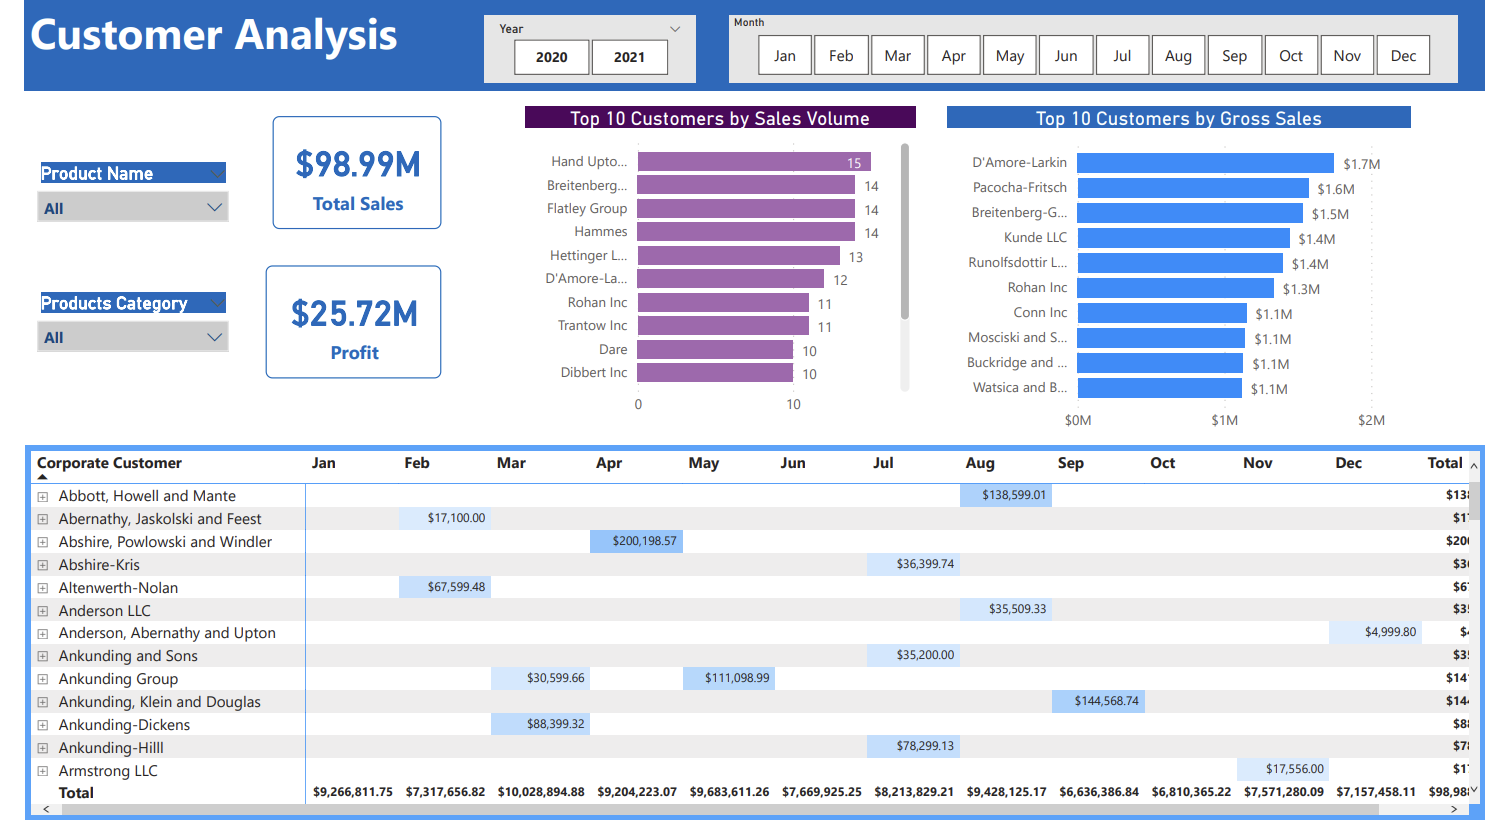

The page's visual inventory and layout, read from the dashboard file:
{"tool":"powerbi","page":{"name":"Customer Analysis","canvas":[1280,720],"ordinal":1},"visuals":[{"type":"textbox","box":[0,0,1279.9,81.9],"z":0},{"type":"clusteredBarChart","title":"Top 10 Customers by Gross Sales","fields":{"Y":["_Calculation.Total Sales"],"Category":["Sales.Corporate Customer"]},"box":[809.2,95.3,405.8,293.4],"z":1000},{"type":"slicer","title":"Product Category","fields":{"Values":["Sales.Products.Category"]},"box":[627.1,657.7,629.5,62.3],"z":2000},{"type":"card","fields":{"Values":["_Calculation.Total Sales"]},"box":[217.6,103.9,147.9,99],"z":3000},{"type":"card","fields":{"Values":["_Calculation.Profit"]},"box":[211.5,234.7,154,99],"z":4000},{"type":"slicer","title":"Month","fields":{"Values":["Sales.ShortMonth"]},"box":[617.3,15.9,639.3,58.7],"z":5000},{"type":"pivotTable","fields":{"Rows":["Sales.Corporate Customer","Products.Product Name"],"Columns":["Sales.ShortMonth"],"Values":["_Calculation.Total Sales"]},"box":[1.2,392.4,1278.6,327.6],"z":6000},{"type":"slicer","fields":{"Values":["Products.Product Name"]},"box":[1.2,139.4,188.3,63.6],"z":7000},{"type":"slicer","fields":{"Values":["Sales.Products.Category"]},"box":[1.2,253,188.3,63.6],"z":9000},{"type":"clusteredBarChart","title":"Top 10 Customers by Sales Volume","fields":{"Y":["_Calculation.Sales Count"],"Category":["Sales.Corporate Customer"]},"box":[438.8,95.3,342.3,278.7],"z":10000},{"type":"slicer","fields":{"Values":["Sales.Year"]},"box":[403.4,15.9,184.6,58.7],"z":11000}]}

Visuals, with their boxes in screenshot pixels (x1, y1, x2, y2), scaled from the page's 1280x720 canvas onto the 1506x828 screenshot:
textbox: pyautogui.locateOnScreen(0, 0, 1505, 94)
"Top 10 Customers by Gross Sales" clusteredBarChart: pyautogui.locateOnScreen(952, 110, 1430, 447)
"Product Category" slicer: pyautogui.locateOnScreen(738, 756, 1478, 827)
card - _Calculation.Total Sales: pyautogui.locateOnScreen(256, 119, 430, 233)
card - _Calculation.Profit: pyautogui.locateOnScreen(249, 270, 430, 384)
"Month" slicer: pyautogui.locateOnScreen(726, 18, 1478, 86)
pivotTable - Sales.Corporate Customer x Products.Product Name: pyautogui.locateOnScreen(1, 451, 1505, 827)
slicer - Products.Product Name: pyautogui.locateOnScreen(1, 160, 223, 233)
slicer - Sales.Products.Category: pyautogui.locateOnScreen(1, 291, 223, 364)
"Top 10 Customers by Sales Volume" clusteredBarChart: pyautogui.locateOnScreen(516, 110, 919, 430)
slicer - Sales.Year: pyautogui.locateOnScreen(475, 18, 692, 86)
